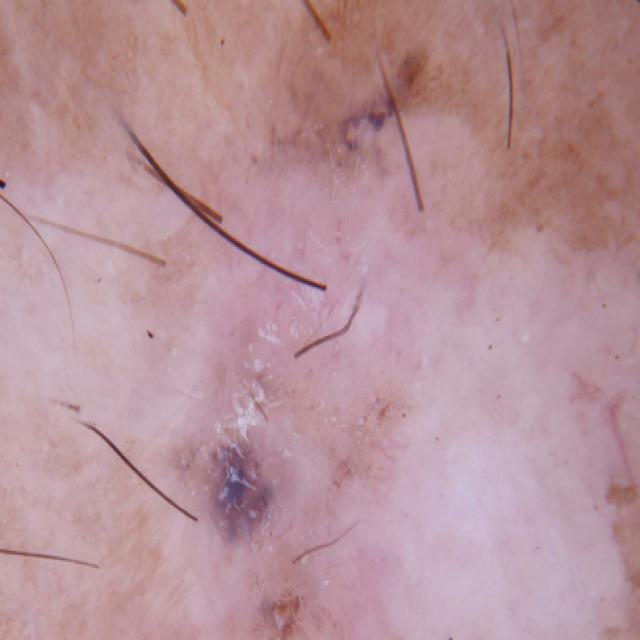Carcinoma: (147, 383, 345, 572)
